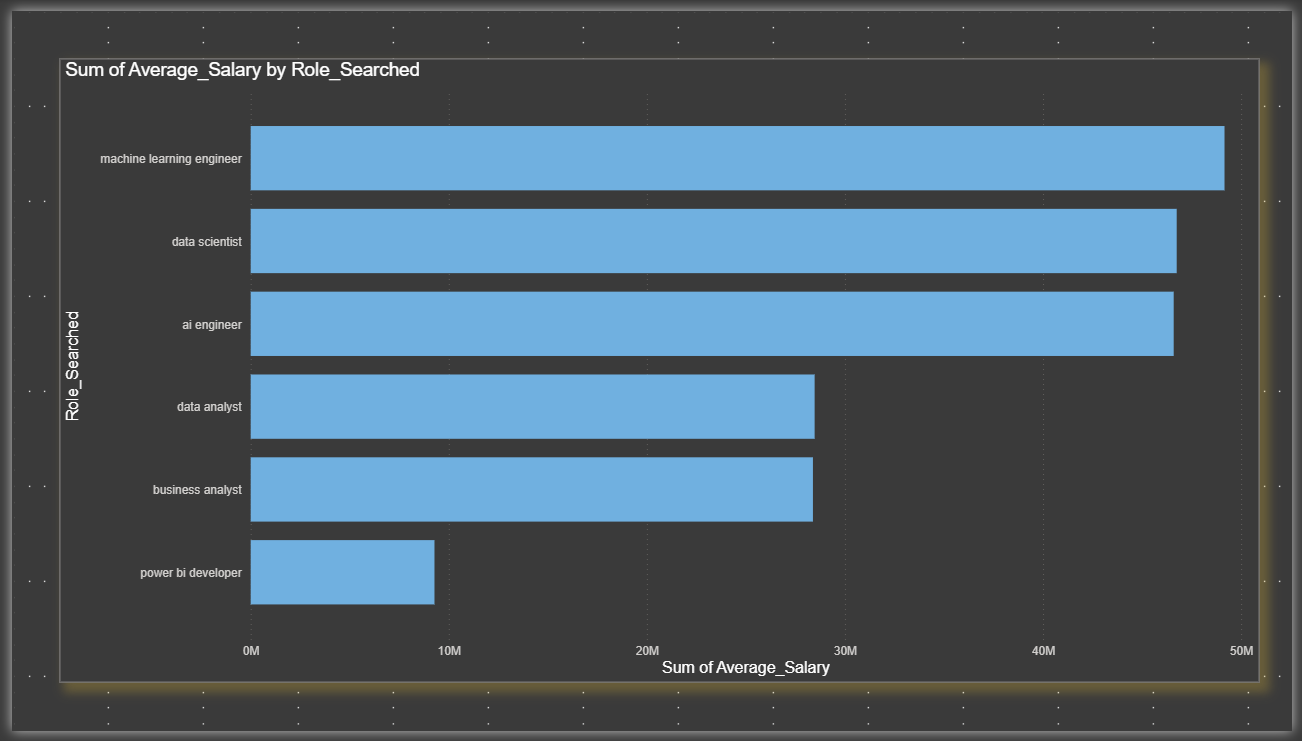

What the dashboard file says about the page in this screenshot:
{"tool":"powerbi","page":{"name":"Salary Analysis","canvas":[1280,720],"ordinal":1},"visuals":[{"type":"barChart","fields":{"Category":["powerbi_jobs_dataset.Role_Searched"],"Y":["Sum(powerbi_jobs_dataset.Average_Salary)"]},"box":[10,0,280,280],"z":0}]}

Visuals, with their boxes in screenshot pixels (x1, y1, x2, y2), scaled from the page's 1280x720 canvas onto the 1302x741 screenshot:
barChart - powerbi_jobs_dataset.Role_Searched x Sum(powerbi_jobs_dataset.Average_Salary): pyautogui.locateOnScreen(10, 0, 295, 288)
